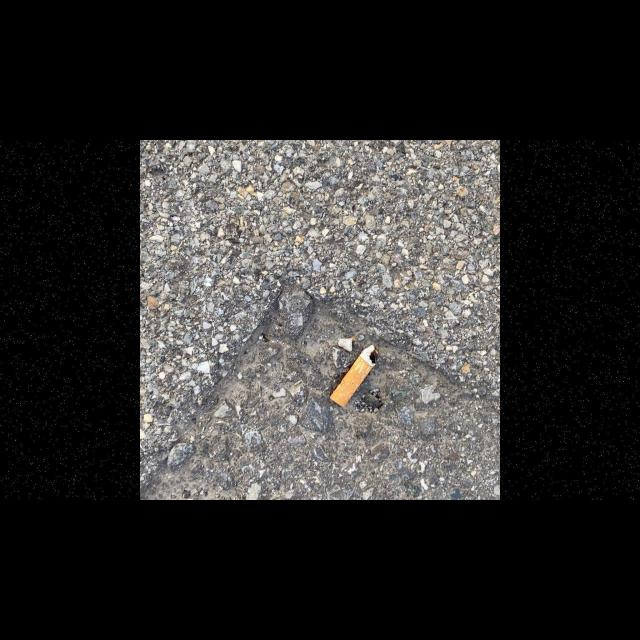cigarette: (329, 344, 379, 407)
